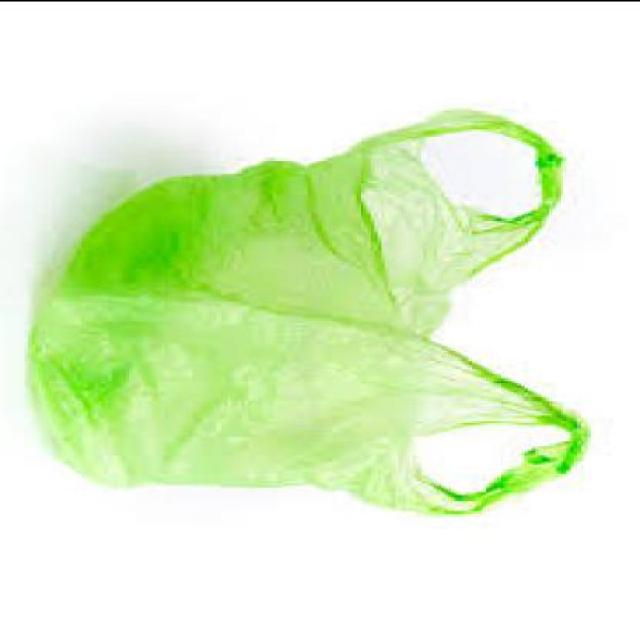PLASTIC: (31, 112, 592, 518)
